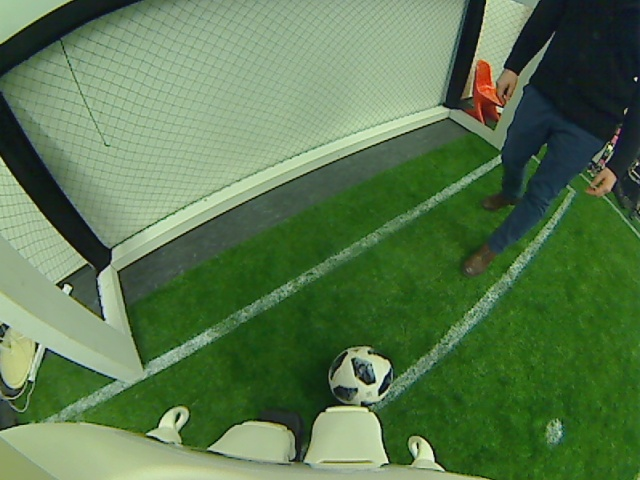ball: (325, 342, 395, 410)
